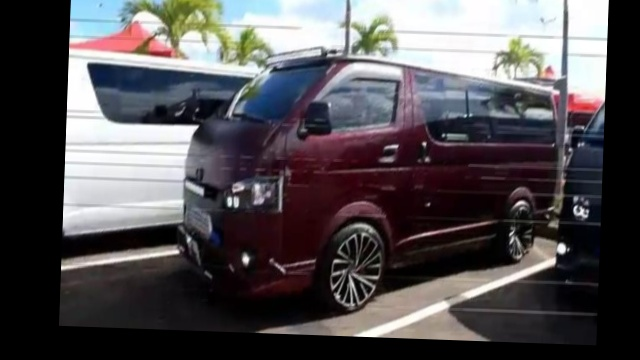van: (172, 46, 564, 311)
